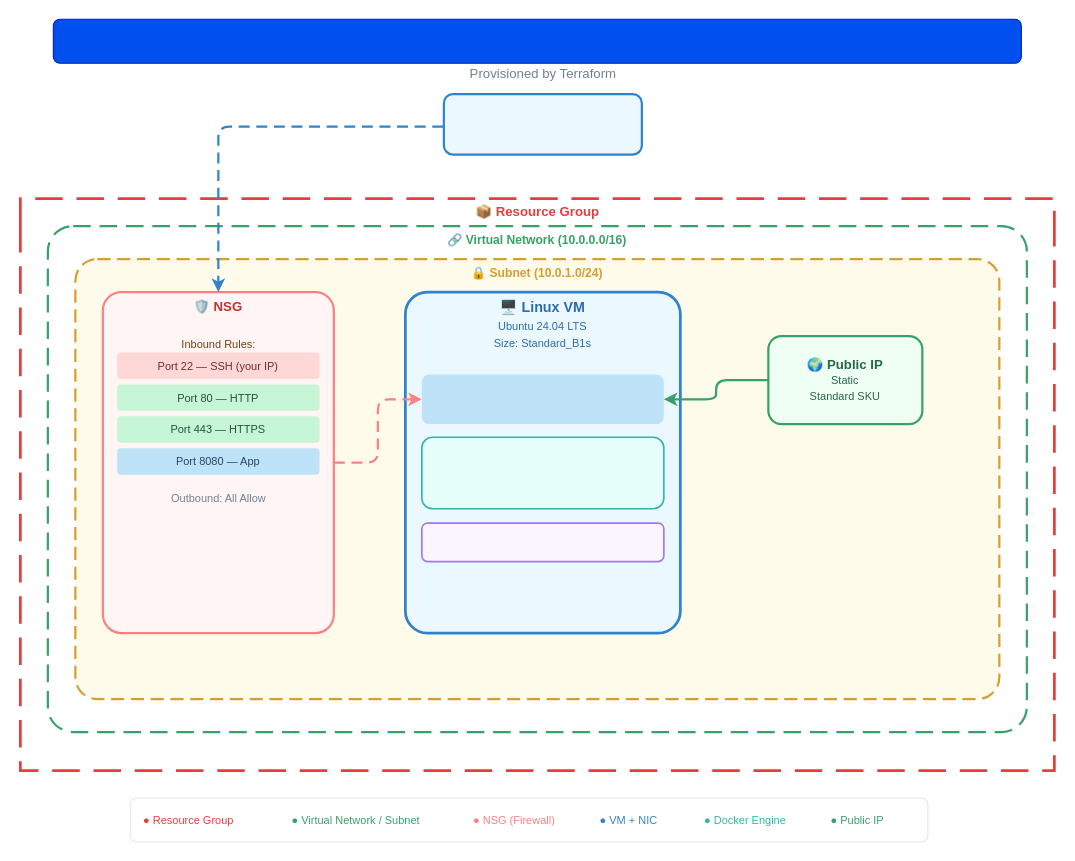
Some shapes in this 1075 by 861 pixel diagram are drawn without their labels. Here are the shapes that lost their labels. From the top down, the centre of each, then its label:
At point 536,40: "Azure Infrastructure Setup (Part 1)".
At point 542,123: "🌐 Internet Users / CI-CD Pipeline".
At point 542,399: "🔌 NIC Private IP: Dynamic".
At point 542,472: "🐳 Docker Engine Installed via cloud-init Auto-starts on boot".
At point 542,542: "💾 OS Disk — 30 GB (SSD)".
